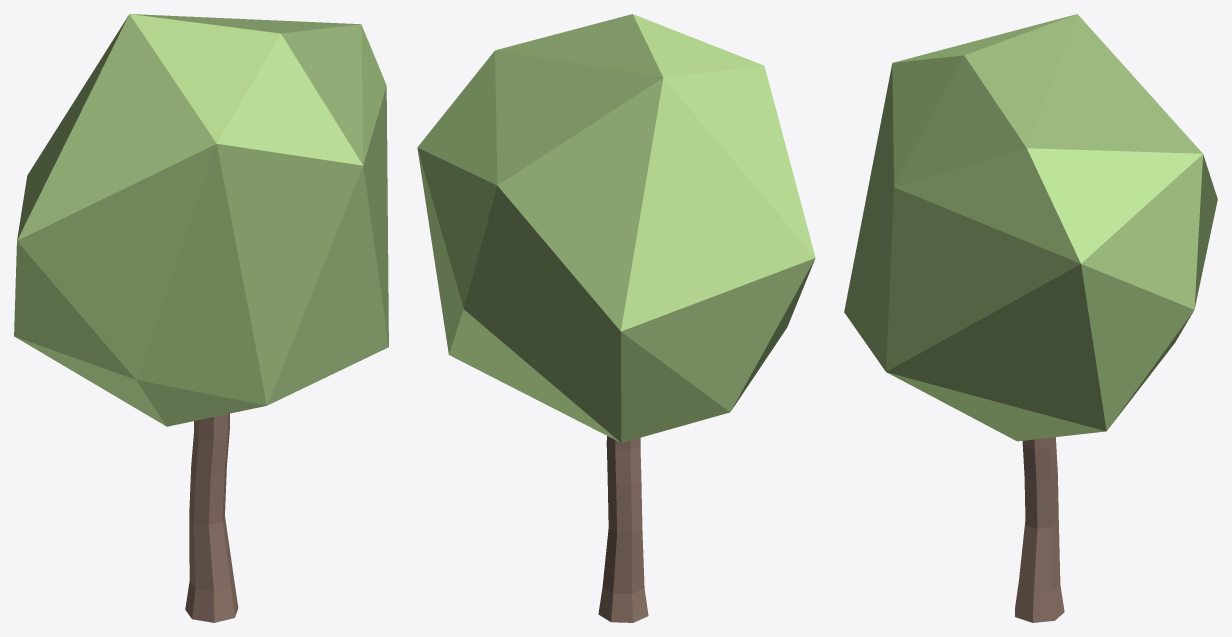
The model's file is Arbol1.fbx.
3 renders of one model, left to right at view 1: azimuth 30°, elevation 25°; view 2: azimuth 150°, elevation 25°; view 3: azimuth 270°, elevation 25°, orthographic. The views are drawn at different scales.
Visible parts, largest first — view 1: tree_3; view 2: tree_3; view 3: tree_3.
Part boxes in pixels (x1,y1,x2,y2): tree_3: (14,14,388,622); tree_3: (417,14,815,622); tree_3: (844,14,1217,622).
Bounding box in the file's own units: 393 × 568 × 337.
